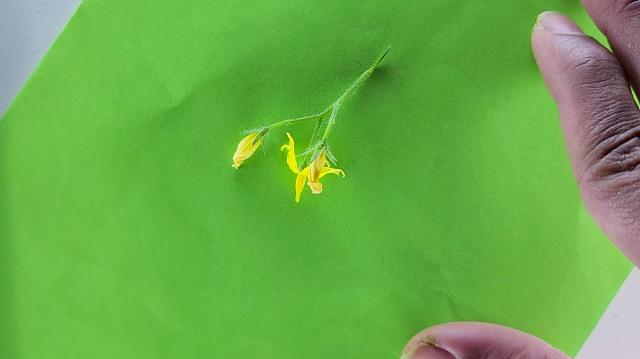Anthesis: (281, 132, 345, 202), (231, 128, 267, 170)
